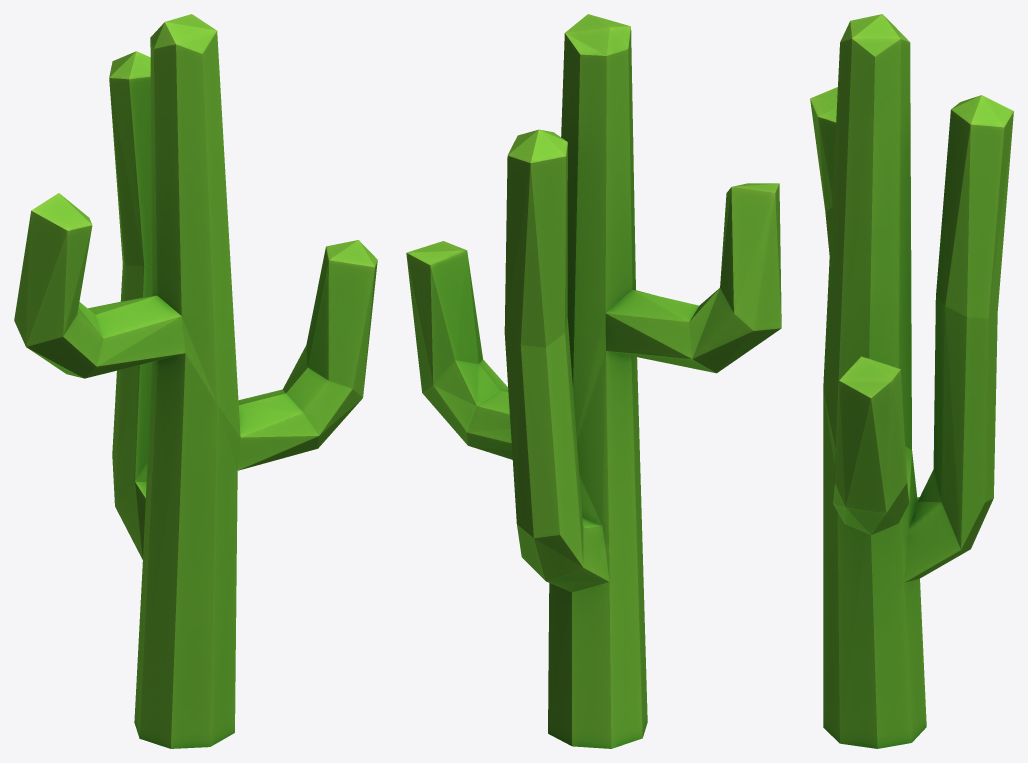
Rendered from Cactus_12.fbx.
3 views of the same model, side by side, from view 1: azimuth 30°, elevation 25°; view 2: azimuth 150°, elevation 25°; view 3: azimuth 270°, elevation 25° (orthographic).
Visible parts, largest first — view 1: Cactus_12; view 2: Cactus_12; view 3: Cactus_12.
Boxes of the visible parts, x1,y1,x2,y2 form: Cactus_12: (14,14,377,748); Cactus_12: (406,14,781,748); Cactus_12: (810,14,1013,748).
Size of the model in its own units: 59.73 by 111 by 29.14.
